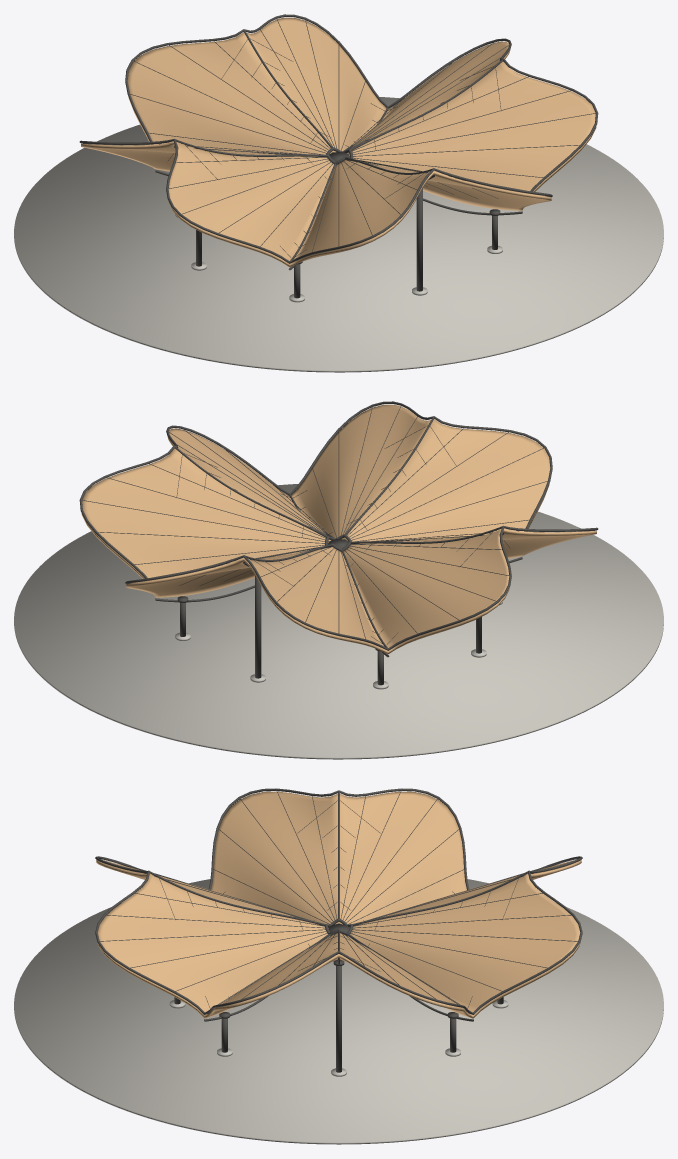
The model's file is brisa_pavilion_optimizado.glb.
The picture shows the model from 3 angles, top to bottom: view 1: azimuth 30°, elevation 25°; view 2: azimuth 150°, elevation 25°; view 3: azimuth 270°, elevation 25°; orthographic projection.
Parts seen in each view (by area): view 1: Circular_Architectural_Floor.001, Candela_Hypar_Flower_Shell.001, Outer_Lobulated_Edge_Rib.001, Slender_Valley_Support_07.001; view 2: Circular_Architectural_Floor.001, Candela_Hypar_Flower_Shell.001, Outer_Lobulated_Edge_Rib.001, Slender_Valley_Support_03.001; view 3: Circular_Architectural_Floor.001, Candela_Hypar_Flower_Shell.001, Outer_Lobulated_Edge_Rib.001, Slender_Valley_Support_01.001.
Part boxes in pixels (x1=…): Circular_Architectural_Floor.001: x1=14, y1=97, x2=663, y2=372; Candela_Hypar_Flower_Shell.001: x1=81, y1=17, x2=596, y2=267; Outer_Lobulated_Edge_Rib.001: x1=79, y1=14, x2=598, y2=263; Slender_Valley_Support_07.001: x1=416, y1=188, x2=422, y2=291; Circular_Architectural_Floor.001: x1=14, y1=484, x2=663, y2=759; Candela_Hypar_Flower_Shell.001: x1=81, y1=404, x2=596, y2=654; Outer_Lobulated_Edge_Rib.001: x1=79, y1=401, x2=598, y2=650; Slender_Valley_Support_03.001: x1=255, y1=575, x2=261, y2=678; Circular_Architectural_Floor.001: x1=14, y1=879, x2=663, y2=1144; Candela_Hypar_Flower_Shell.001: x1=96, y1=791, x2=581, y2=1018; Outer_Lobulated_Edge_Rib.001: x1=95, y1=788, x2=582, y2=1014; Slender_Valley_Support_01.001: x1=336, y1=966, x2=341, y2=1072.
Size of the model in its own units: 23.1 by 5.35 by 23.1.
